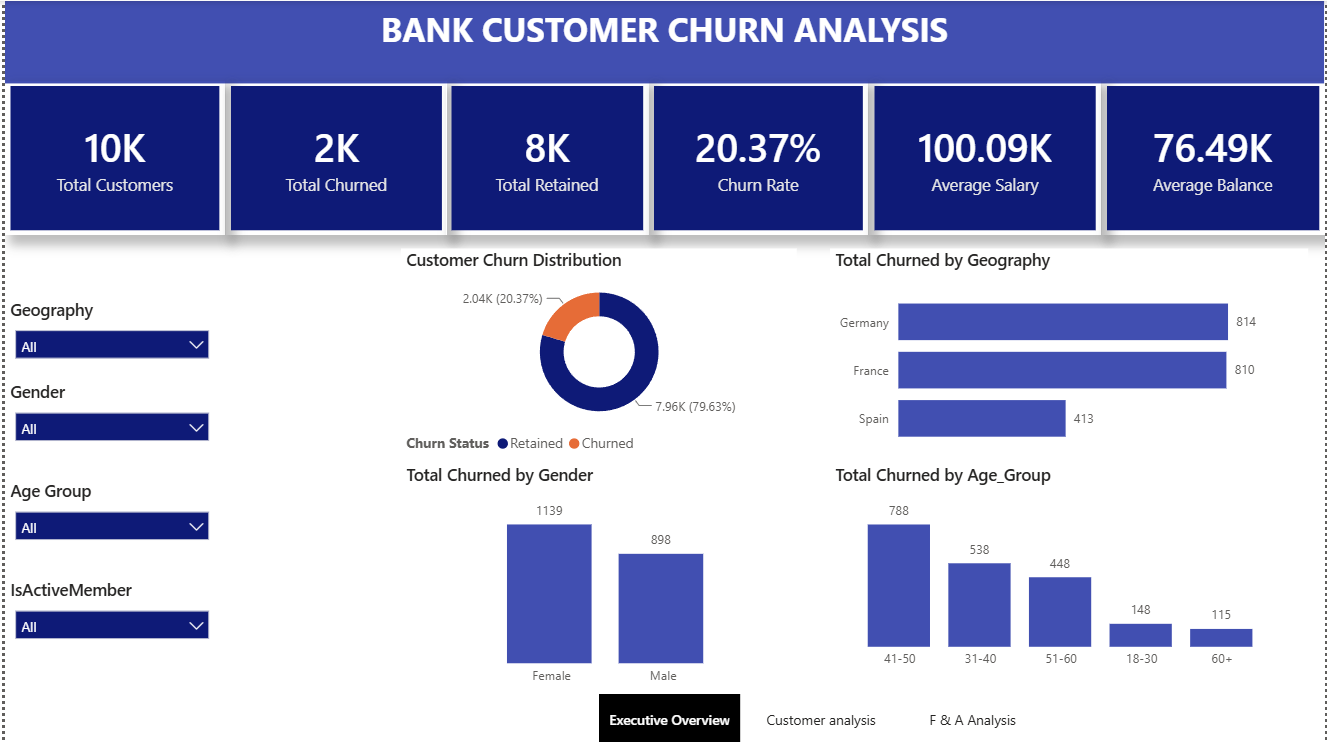

The page's visual inventory and layout, read from the dashboard file:
{"tool":"powerbi","page":{"name":"Executive Overview","canvas":[1280,720],"ordinal":0},"visuals":[{"type":"textbox","box":[0,0,1280,80],"z":0},{"type":"cardVisual","fields":{"Data":["Bank_Churn.Total Customers"]},"box":[0,76.7,213.3,150],"z":1000},{"type":"cardVisual","fields":{"Data":["Bank_Churn.Total Churned"]},"box":[213.3,76.7,215,150],"z":2000},{"type":"cardVisual","fields":{"Data":["Bank_Churn.Total Retained"]},"box":[428.3,76.7,196.7,150],"z":3000},{"type":"cardVisual","fields":{"Data":["Bank_Churn.Churn Rate"]},"box":[625,76.7,213.3,150],"z":4000},{"type":"cardVisual","fields":{"Data":["Bank_Churn.Average Salary"]},"box":[838.3,76.7,225,150],"z":5000},{"type":"cardVisual","fields":{"Data":["Bank_Churn.Average Balance"]},"box":[1063.3,76.7,216.7,150],"z":6000},{"type":"donutChart","title":"Customer Churn Distribution","fields":{"Category":["Bank_Churn.Churn Status"],"Y":["CountNonNull(Bank_Churn.CustomerId)"]},"box":[384,240,384,208],"z":7000},{"type":"clusteredBarChart","fields":{"Category":["Bank_Churn.Geography"],"Y":["Bank_Churn.Total Churned"]},"box":[800,240,464,208],"z":8000},{"type":"clusteredColumnChart","fields":{"Y":["Bank_Churn.Total Churned"],"Category":["Bank_Churn.Gender"]},"box":[384,448,400,224],"z":9000},{"type":"clusteredColumnChart","fields":{"Category":["Bank_Churn.Age_Group"],"Y":["Bank_Churn.Total Churned"]},"box":[800,448,448,208],"z":10000},{"type":"slicer","title":"Geography","fields":{"Values":["Bank_Churn.Geography"]},"box":[0,288,208,80],"z":14000},{"type":"slicer","title":"Gender","fields":{"Values":["Bank_Churn.Gender"]},"box":[0,368,208,80],"z":15000},{"type":"slicer","title":"Age Group","fields":{"Values":["Bank_Churn.Age_Group"]},"box":[0,464,208,80],"z":16000},{"type":"slicer","title":"IsActiveMember","fields":{"Values":["Bank_Churn.IsActiveMember"]},"box":[0,560,208,80],"z":17000},{"type":"pageNavigator","box":[576,672,432,48],"z":17001}]}

Visuals, with their boxes in screenshot pixels (x1, y1, x2, y2), scaled from the page's 1280x720 canvas onto the 1327x742 screenshot:
textbox: left=0, top=0, right=1326, bottom=82
cardVisual - Bank_Churn.Total Customers: left=0, top=79, right=221, bottom=234
cardVisual - Bank_Churn.Total Churned: left=221, top=79, right=444, bottom=234
cardVisual - Bank_Churn.Total Retained: left=444, top=79, right=648, bottom=234
cardVisual - Bank_Churn.Churn Rate: left=648, top=79, right=869, bottom=234
cardVisual - Bank_Churn.Average Salary: left=869, top=79, right=1102, bottom=234
cardVisual - Bank_Churn.Average Balance: left=1102, top=79, right=1326, bottom=234
"Customer Churn Distribution" donutChart: left=398, top=247, right=796, bottom=462
clusteredBarChart - Bank_Churn.Geography x Bank_Churn.Total Churned: left=829, top=247, right=1310, bottom=462
clusteredColumnChart - Bank_Churn.Total Churned x Bank_Churn.Gender: left=398, top=462, right=813, bottom=693
clusteredColumnChart - Bank_Churn.Age_Group x Bank_Churn.Total Churned: left=829, top=462, right=1294, bottom=676
"Geography" slicer: left=0, top=297, right=216, bottom=379
"Gender" slicer: left=0, top=379, right=216, bottom=462
"Age Group" slicer: left=0, top=478, right=216, bottom=561
"IsActiveMember" slicer: left=0, top=577, right=216, bottom=660
pageNavigator: left=597, top=693, right=1045, bottom=741
